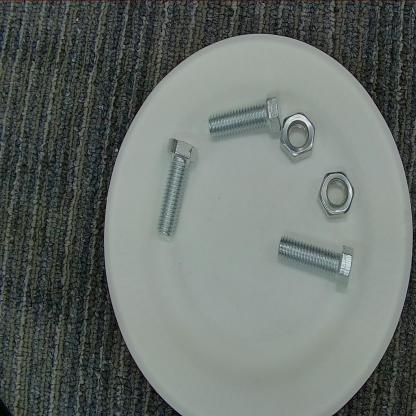FOD: (275, 230, 360, 289), (156, 132, 199, 242), (202, 92, 284, 142), (315, 167, 357, 222), (280, 108, 314, 165)
